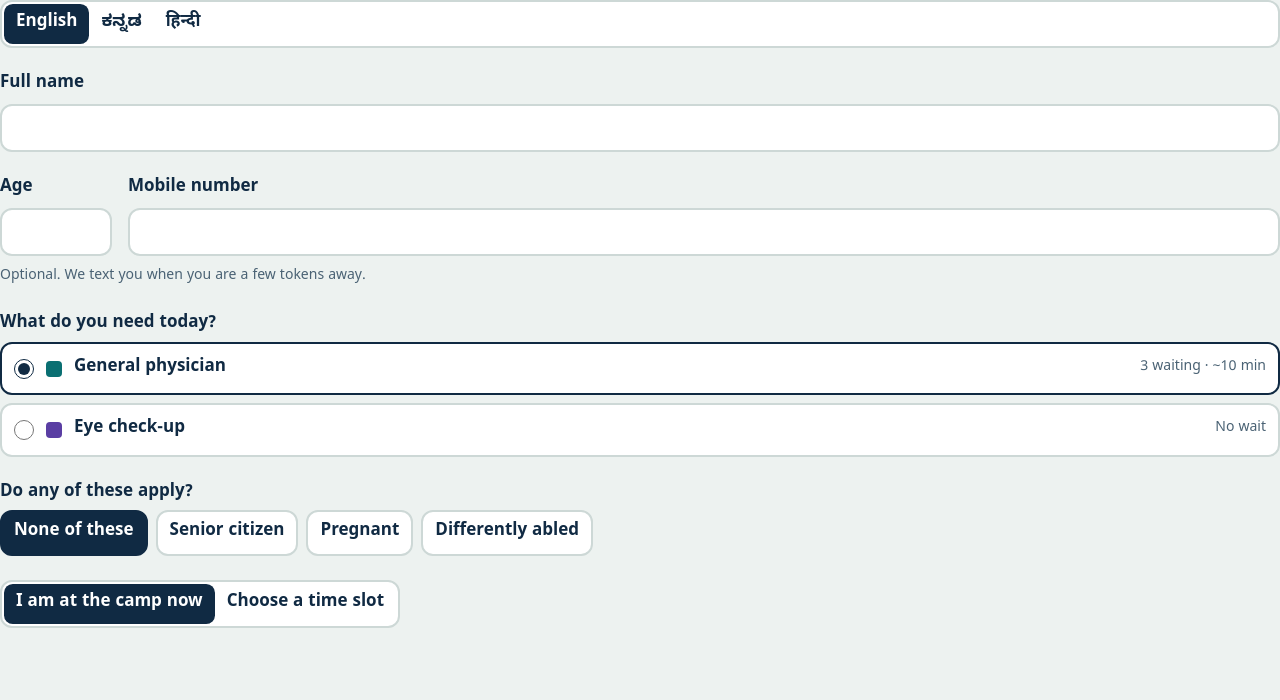
Test case: RegisterForm › lets a visitor book a slot and marks full slots unavailable
The image size is (1280, 700).
Click the button "Choose a time slot": (305,604) [215, 584, 396, 624]
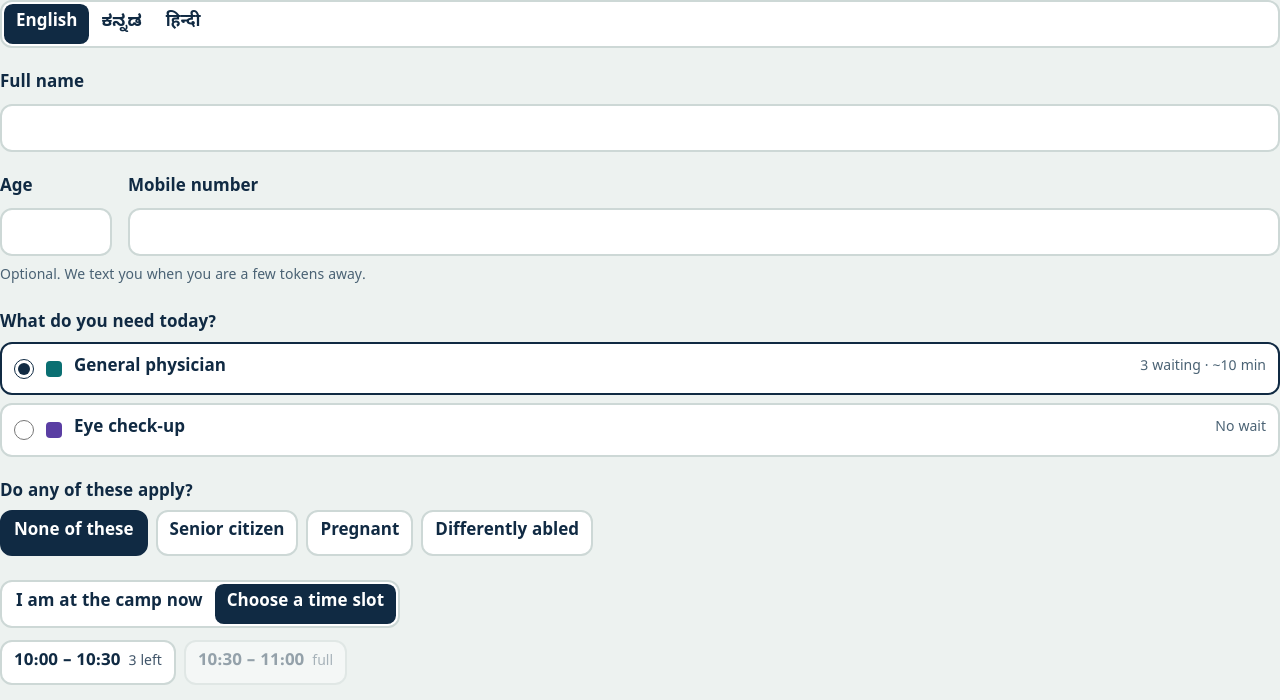
expect the button "10:30 – 11:00full" is disabled: met, box [184, 640, 347, 685]
expect the button "10:00 – 10:303 left" is enabled: met, box [0, 640, 176, 685]
